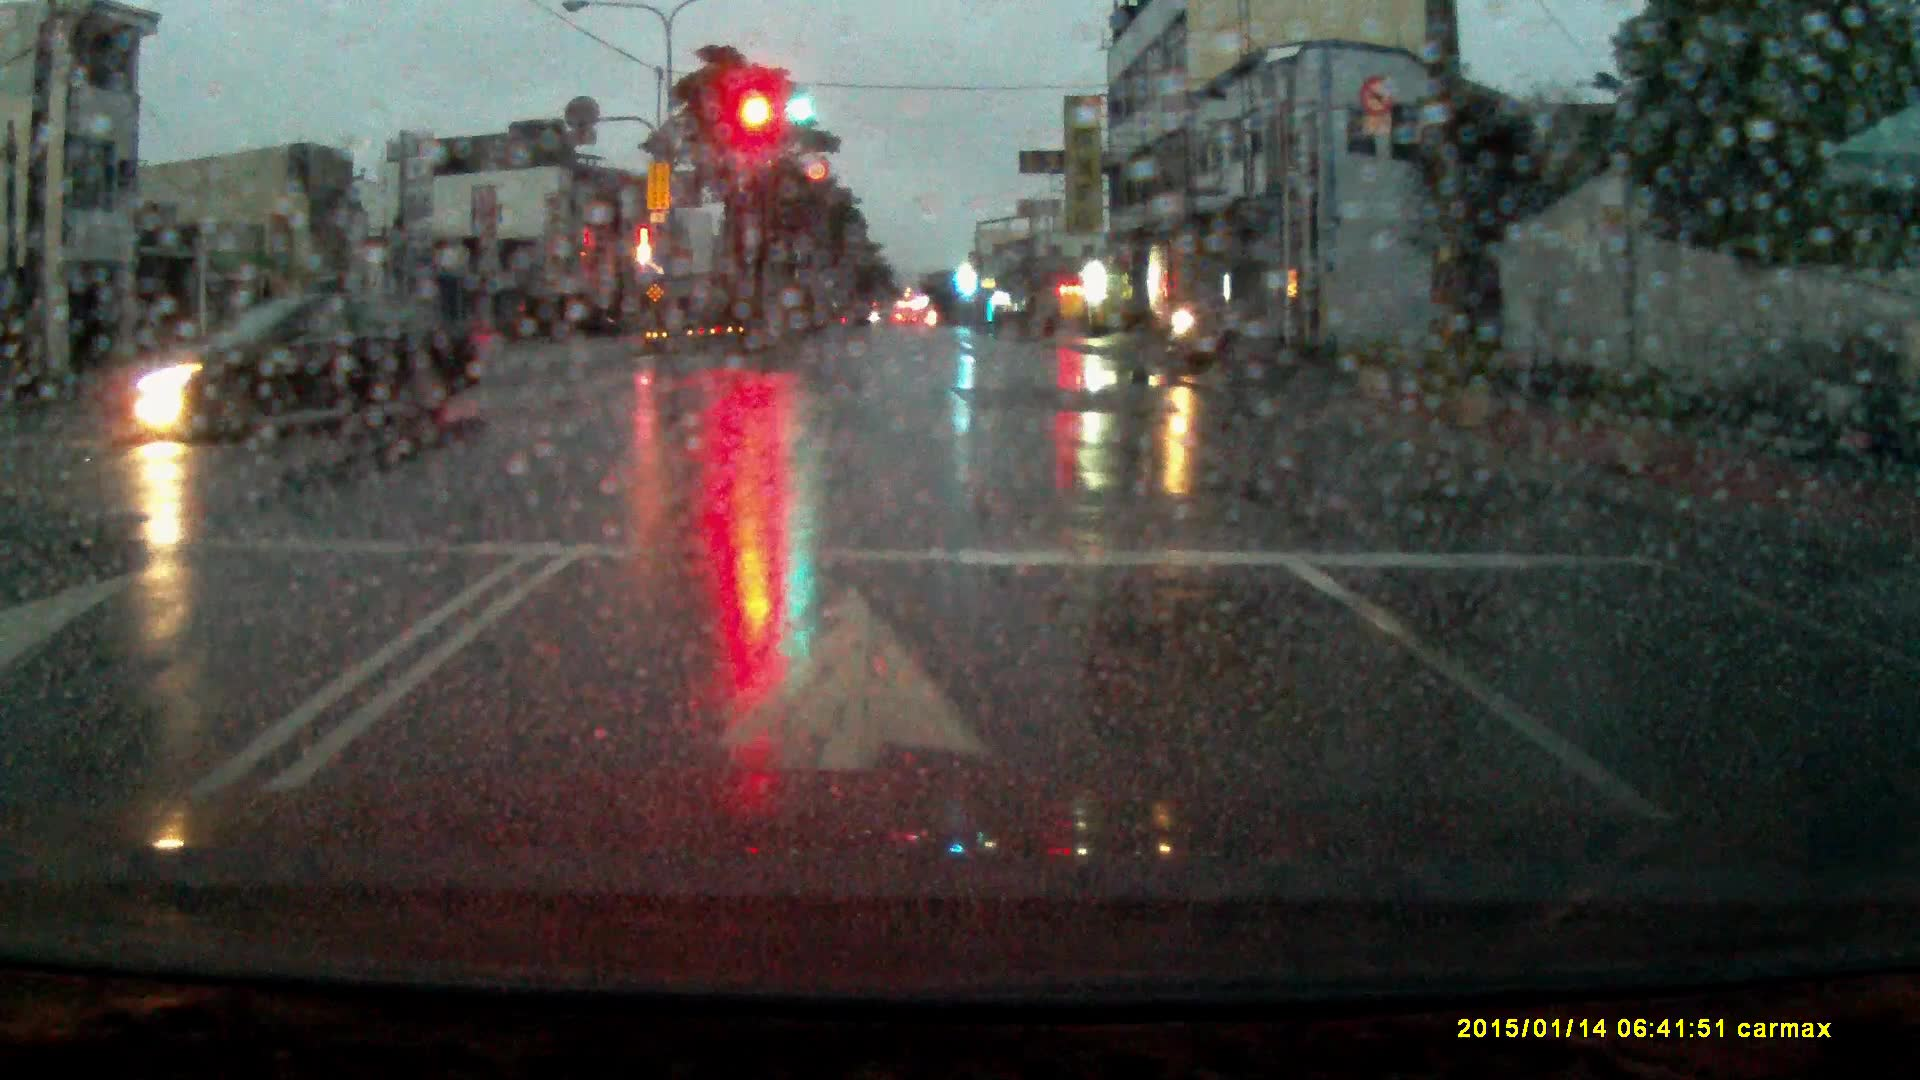rider: (1146, 283, 1233, 373)
vehicle: (134, 291, 489, 445)
